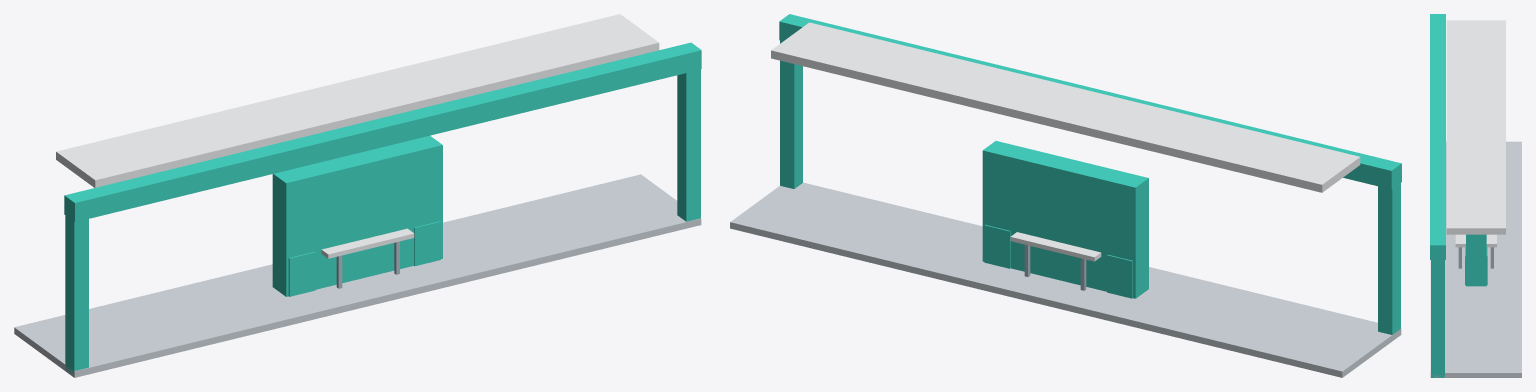
The picture shows the model from 3 angles, left to right: view 1: azimuth 30°, elevation 25°; view 2: azimuth 150°, elevation 25°; view 3: azimuth 270°, elevation 25°; orthographic projection. The views are drawn at different scales.
Visible parts, largest first — view 1: Exhibition Booth Concept; view 2: Exhibition Booth Concept; view 3: Exhibition Booth Concept.
Part boxes in pixels (x1,y1,x2,y2): Exhibition Booth Concept: (14, 14, 701, 377); Exhibition Booth Concept: (730, 14, 1401, 377); Exhibition Booth Concept: (1430, 14, 1521, 377).
Size of the model in its own units: 12 by 3.34 by 2.01.
